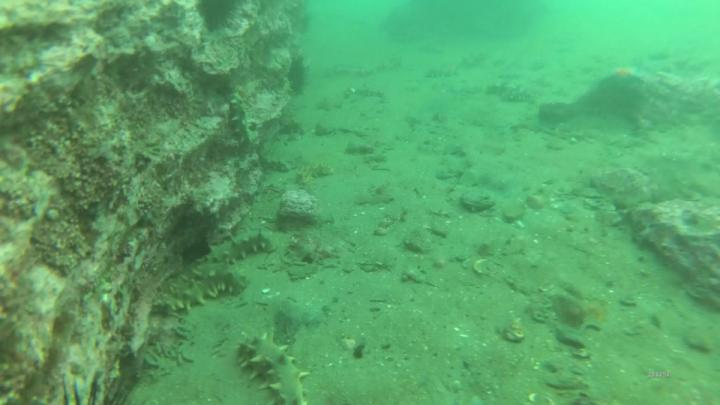echinus: (198, 1, 238, 29), (287, 54, 308, 100)
holothurian: (235, 333, 313, 405), (155, 265, 250, 314), (194, 228, 279, 267), (229, 91, 259, 148), (487, 78, 539, 106), (294, 159, 335, 186), (259, 156, 291, 174)
starfish: (595, 66, 651, 91)
